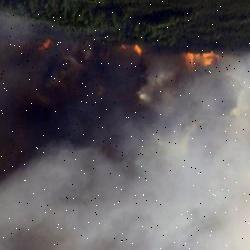fire: (117, 33, 224, 79)
